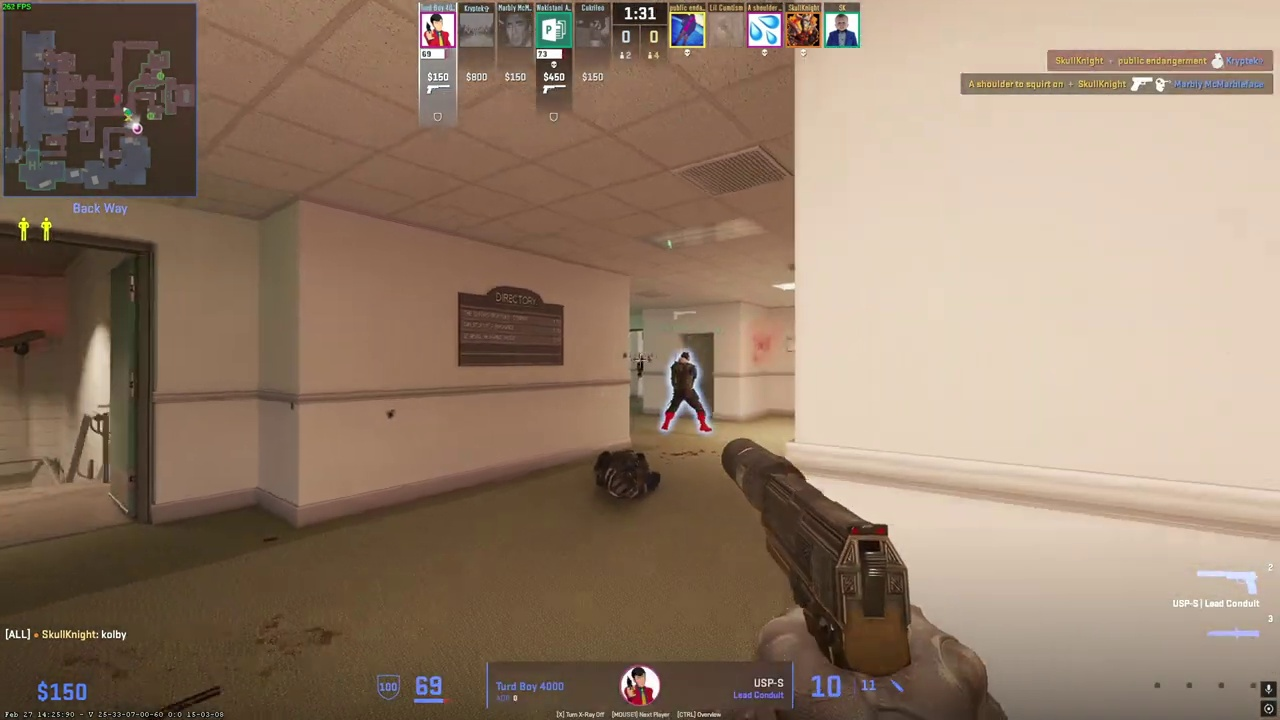CT: (662, 351, 707, 432)
